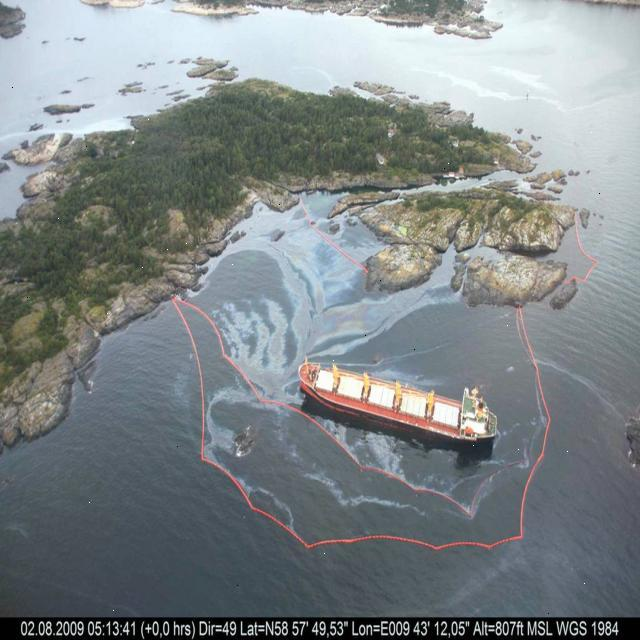sheen: (227, 201, 452, 351), (222, 300, 307, 399), (328, 219, 384, 263)
